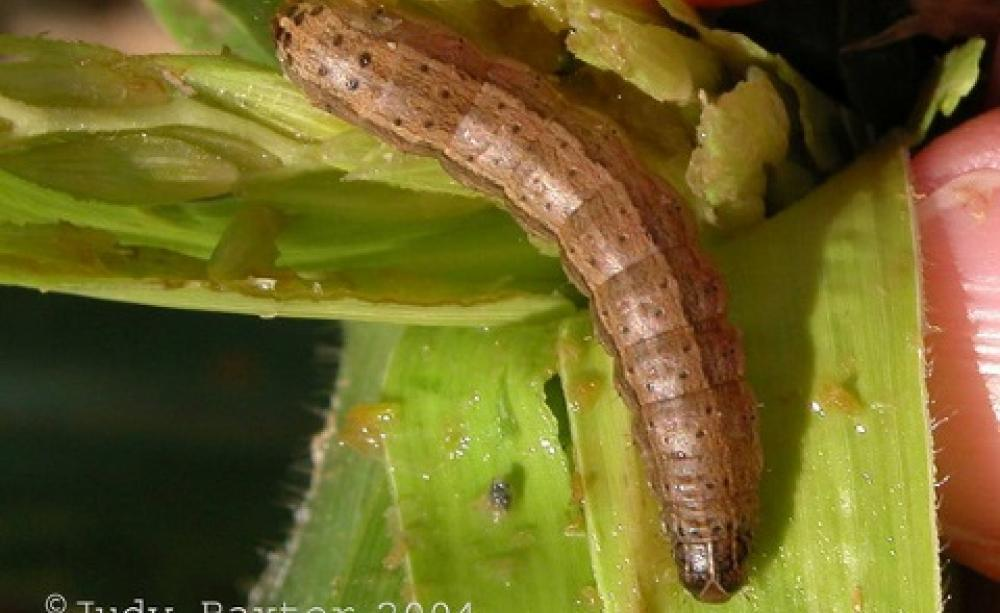Maize-fall-armyworm: (348, 1, 742, 613)
